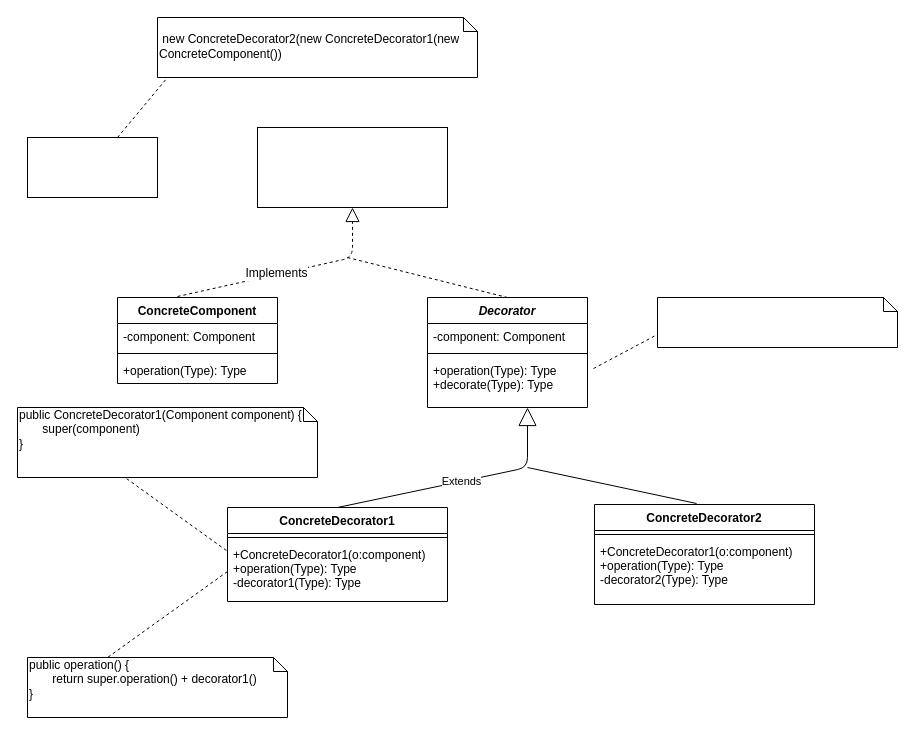
Some shapes in this 915 by 735 pixel diagram are drawn without their labels. The centre of each missing label's shape, as x and y in pixels:
"<<Interface>> Component +operation(Type): Type" goes at (x=352, y=167).
"Client" goes at (x=92, y=167).
"public operation() { return component.operation(); }" goes at (x=777, y=322).
